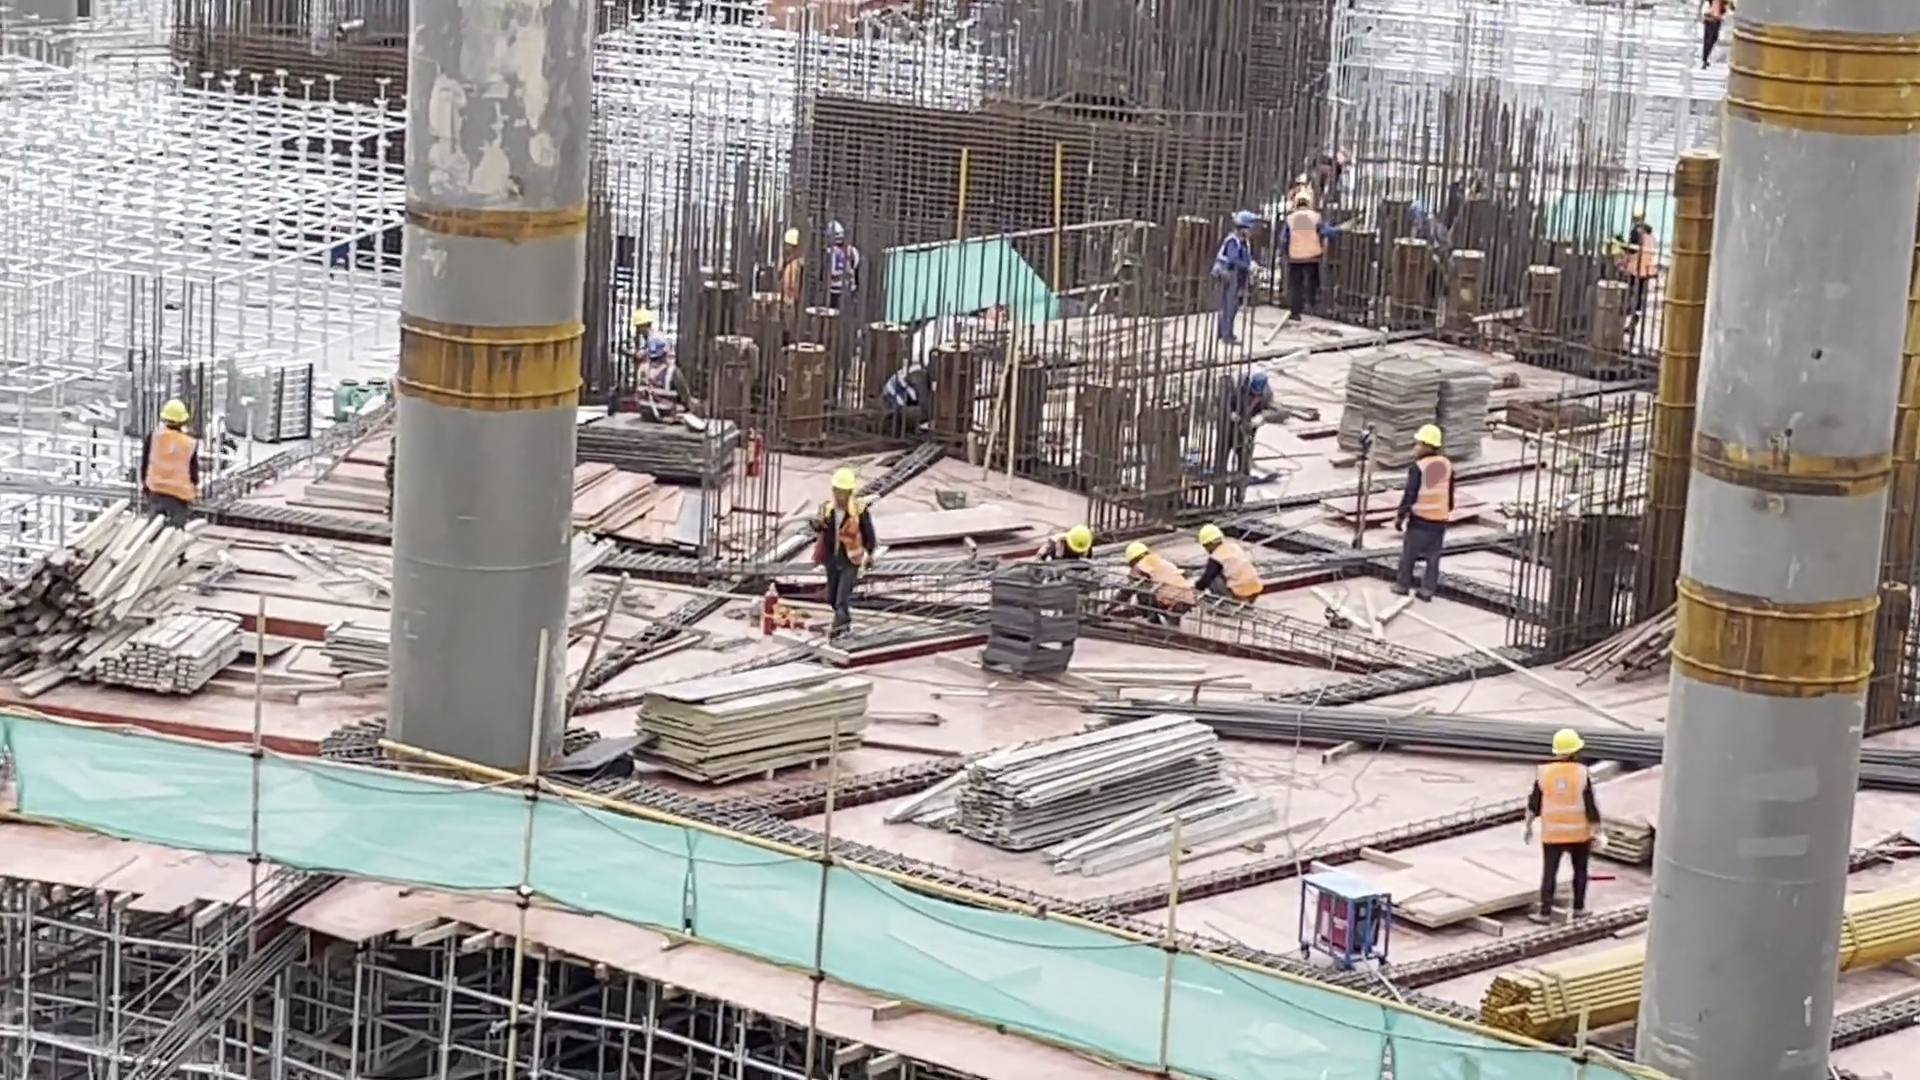board: (626, 650, 871, 788), (1595, 754, 1658, 870)
helmet: (1548, 726, 1585, 756), (1066, 522, 1094, 555), (1415, 420, 1444, 450), (160, 397, 190, 424), (830, 466, 858, 493), (1122, 539, 1148, 564), (1198, 523, 1224, 545)
person: (1526, 719, 1609, 941), (806, 461, 877, 639), (1398, 419, 1455, 606), (1211, 363, 1280, 501), (142, 390, 200, 521), (1120, 530, 1193, 626), (1193, 512, 1262, 605), (1213, 205, 1255, 341), (1282, 183, 1324, 316), (633, 334, 689, 430), (817, 212, 855, 297), (1040, 517, 1091, 565), (778, 226, 808, 301)
vest: (1539, 758, 1596, 848), (813, 497, 873, 570), (1404, 448, 1451, 530), (148, 426, 197, 501), (1209, 540, 1264, 604), (1134, 553, 1196, 608), (1285, 210, 1324, 262), (1215, 236, 1253, 276)
wood: (2, 503, 191, 696)
